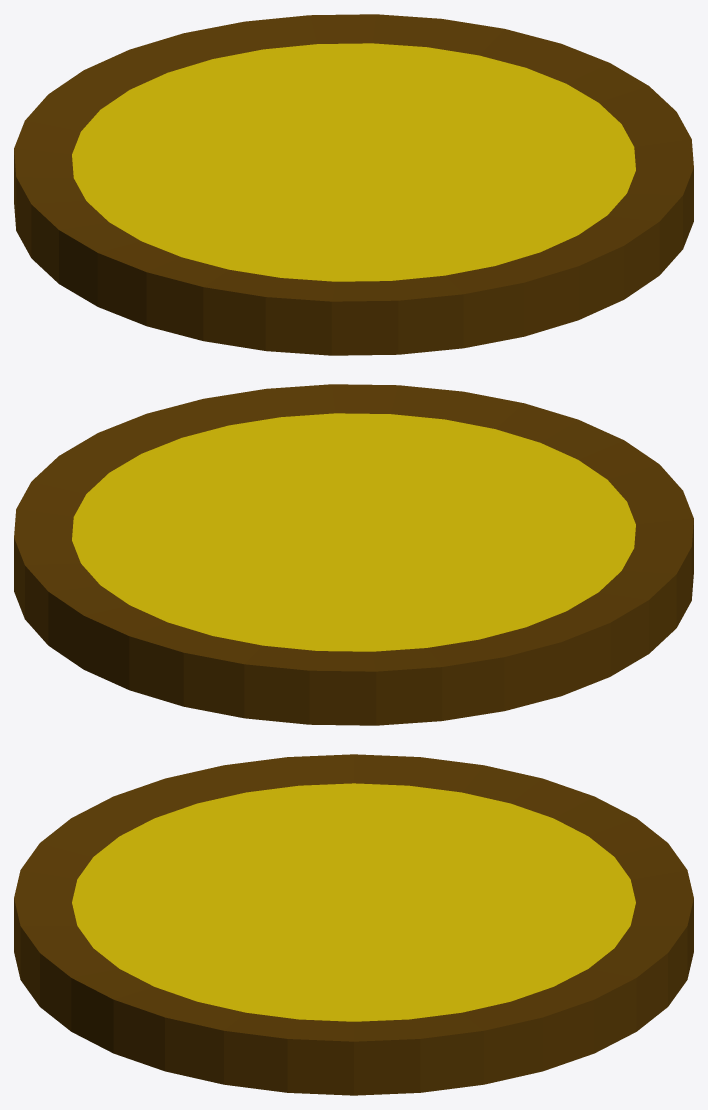
The picture shows the model from 3 angles, top to bottom: view 1: azimuth 30°, elevation 25°; view 2: azimuth 150°, elevation 25°; view 3: azimuth 270°, elevation 25°; orthographic projection.
Visible parts, largest first — view 1: Cylinder; view 2: Cylinder; view 3: Cylinder.
Part boxes in pixels (x1=…): Cylinder: x1=14, y1=14, x2=693, y2=355; Cylinder: x1=14, y1=384, x2=693, y2=725; Cylinder: x1=14, y1=754, x2=693, y2=1095.
Bounding box in the file's own units: 200 × 17.51 × 200.
